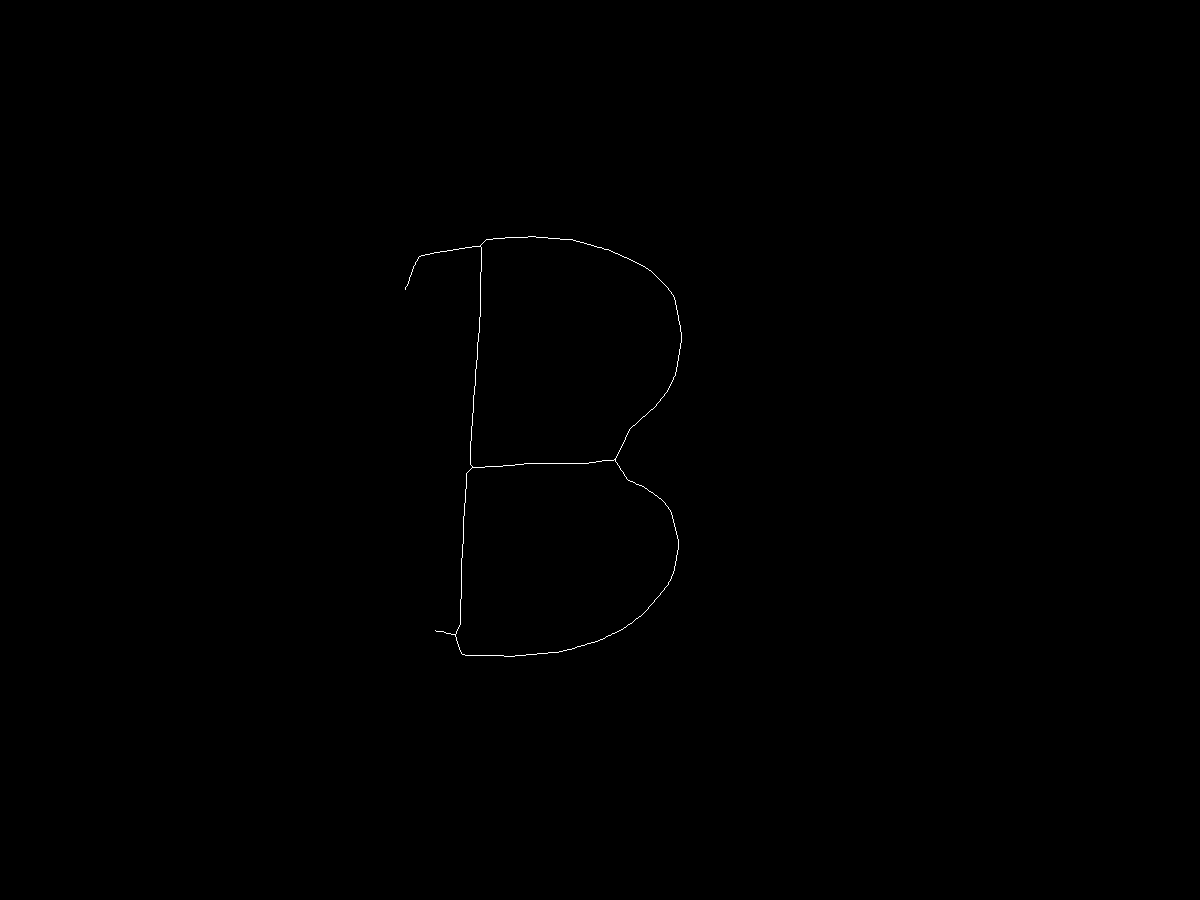dian1: (472, 236, 492, 256)
dian2: (467, 460, 484, 477)
dian3: (451, 631, 461, 641)
dian4: (609, 455, 622, 468)
